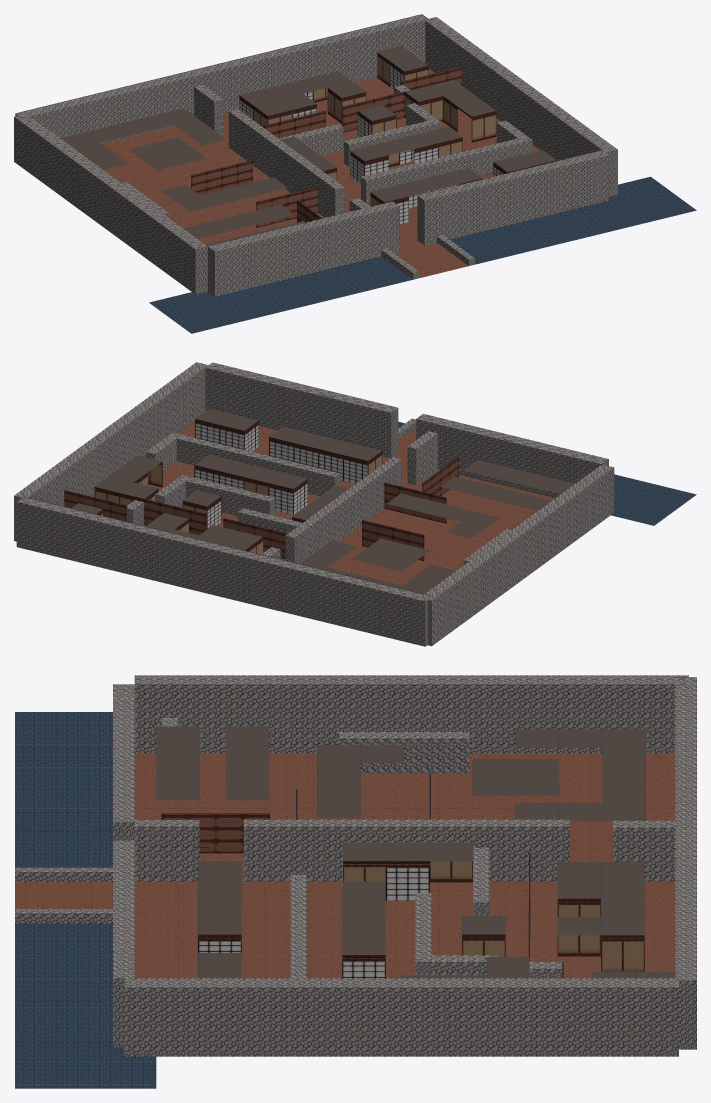
File: maze.obj
3 views of the same model, one above another, from view 1: azimuth 30°, elevation 25°; view 2: azimuth 150°, elevation 25°; view 3: azimuth 270°, elevation 25° (orthographic). The views are drawn at different scales.
Parts seen in each view (by area): view 1: Default; view 2: Default; view 3: Default.
Part boxes in pixels (left/top/right/bottom): Default: left=14, top=14, right=696, bottom=333; Default: left=14, top=362, right=696, bottom=646; Default: left=15, top=675, right=696, bottom=1088.
Size of the model in its own units: 26.24 by 3.43 by 20.1.
Materials: 3 (3 with a texture image).
